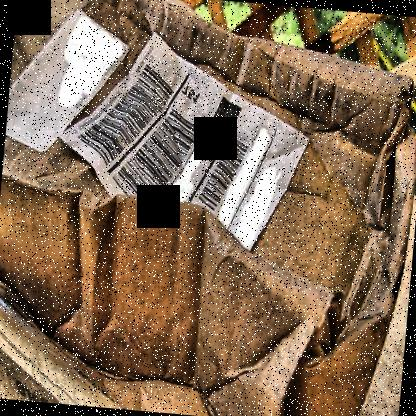defect parcel: (10, 0, 416, 410)
